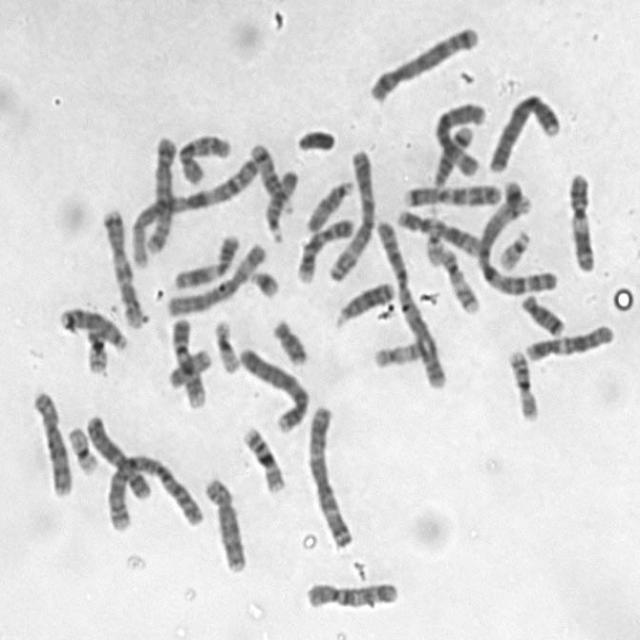A1: (130, 153, 261, 260), (472, 193, 561, 297)
A2: (372, 215, 449, 391), (100, 447, 206, 534)
A3: (303, 398, 357, 551), (324, 142, 378, 283)
B4: (234, 342, 311, 434), (485, 86, 564, 175)
B5: (364, 20, 481, 104), (142, 130, 179, 257)
C10: (302, 575, 401, 611), (175, 127, 235, 186)
C11: (169, 228, 243, 292), (565, 166, 598, 275)
C12: (392, 203, 483, 258), (521, 319, 616, 363)
C6: (162, 238, 270, 318), (429, 96, 488, 186)
C7: (98, 202, 146, 328), (402, 179, 504, 208)
C8: (26, 384, 74, 498), (200, 473, 248, 574)
C9: (294, 213, 356, 284), (165, 311, 209, 410)
D13: (54, 302, 129, 352), (332, 276, 398, 329)
D14: (246, 136, 296, 216), (429, 120, 475, 188)
D15: (262, 164, 301, 244), (303, 176, 356, 234)
E16: (238, 421, 288, 494), (504, 344, 541, 422)
E17: (436, 243, 482, 315), (370, 334, 427, 369)
E18: (517, 288, 567, 338), (268, 314, 310, 366)
F19: (210, 314, 243, 375), (64, 422, 101, 476)
F20: (163, 343, 214, 391), (82, 323, 110, 375)
G21: (500, 175, 533, 216), (244, 264, 282, 299)
G22: (494, 224, 533, 272), (421, 224, 446, 267)
X: (82, 408, 154, 501), (429, 96, 488, 186)
Y: (293, 124, 338, 154)
